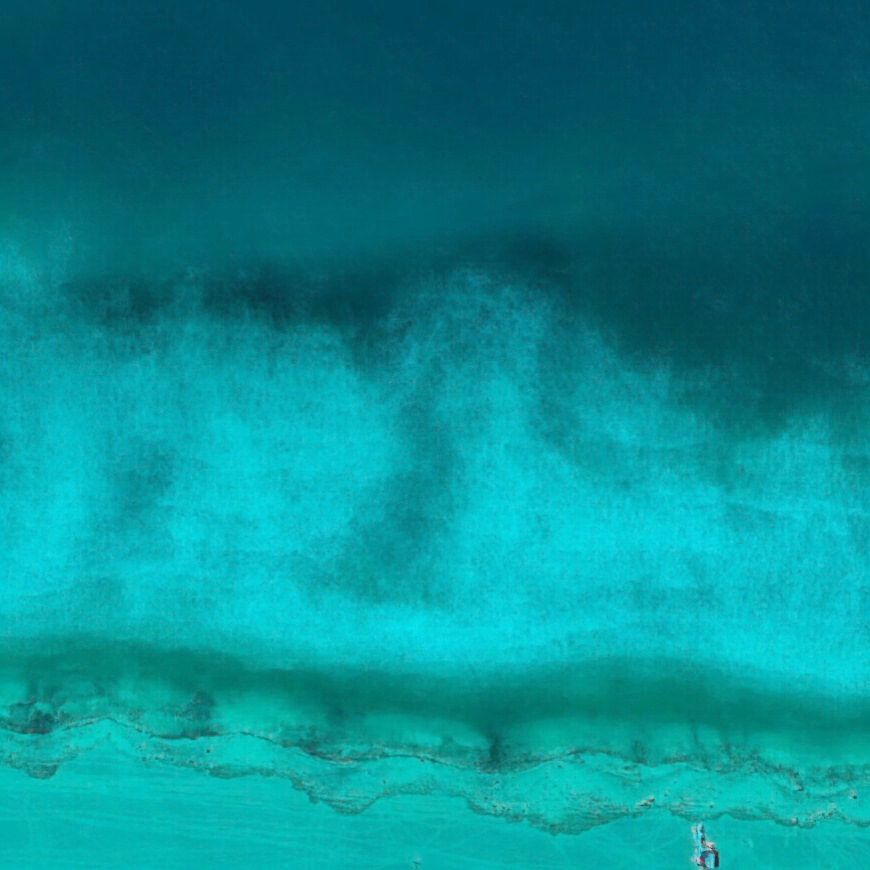rip_current: (307, 301, 574, 645)
